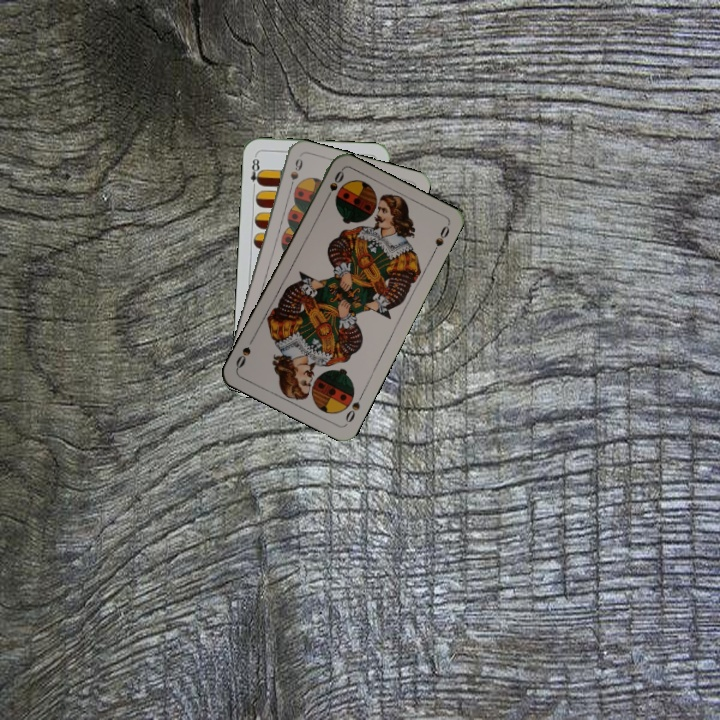E8: (247, 152, 264, 192)
S9: (285, 155, 305, 194)
SO: (321, 167, 347, 204), (341, 389, 366, 427)
